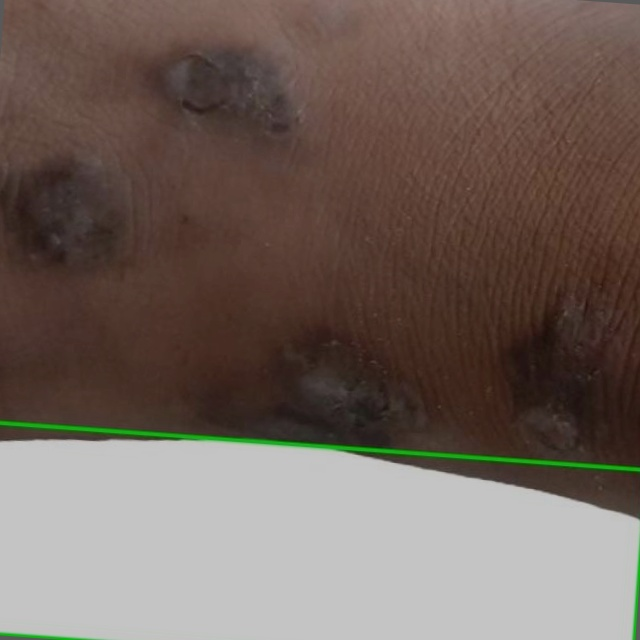Contact Dermatitis: (0, 423, 639, 639)
